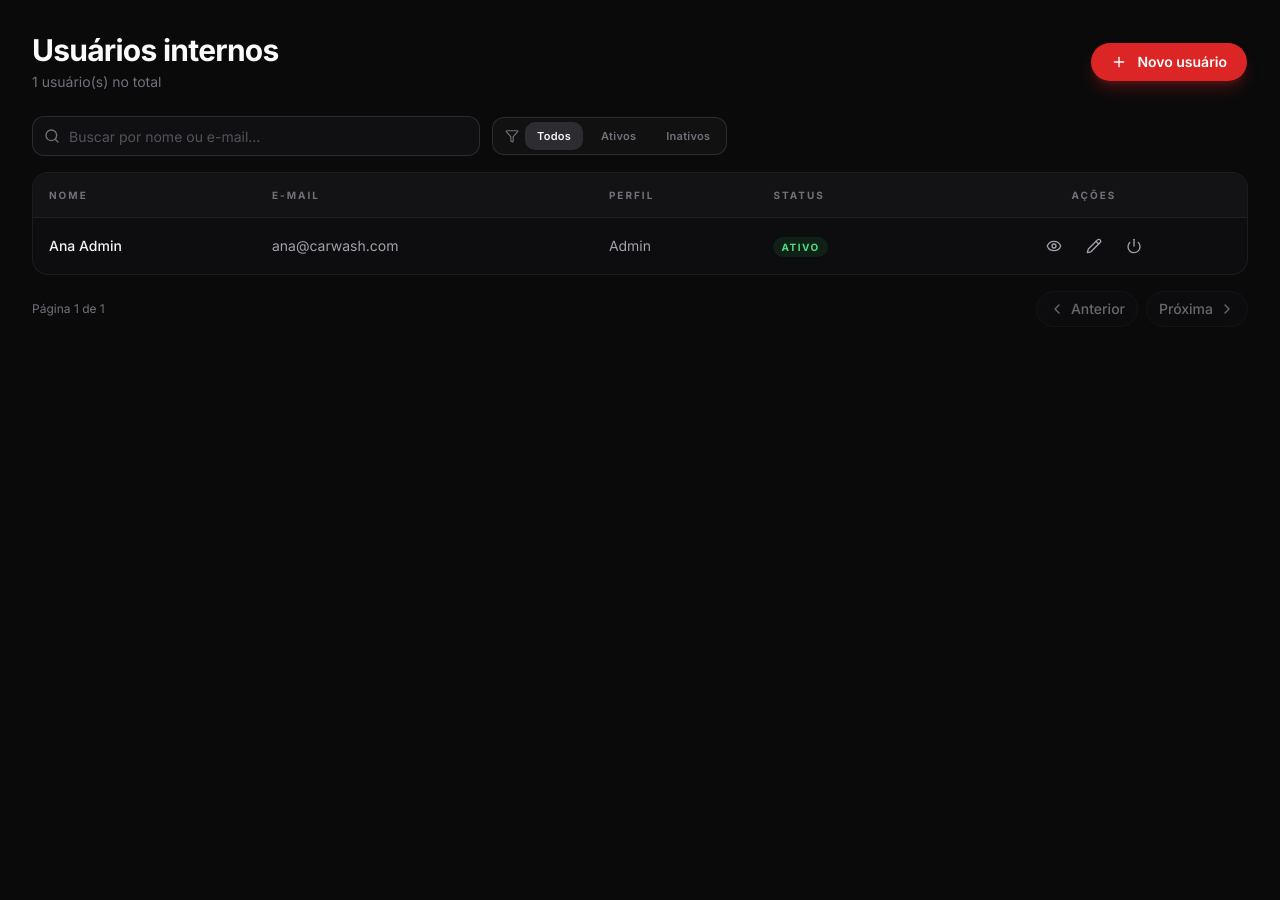
it: UsuariosListaPage (RF014) — toggle de status via modal de confirmação › 6d. cancelar no modal não dispara PATCH e mantém o status
The image size is (1280, 900).
Expected: the text "Ana Admin" is shown, x1=49 y1=237 x2=122 y2=254
Click the button named "Inativar Ana Admin" at (1134, 246), box x1=1118 y1=230 x2=1150 y2=262
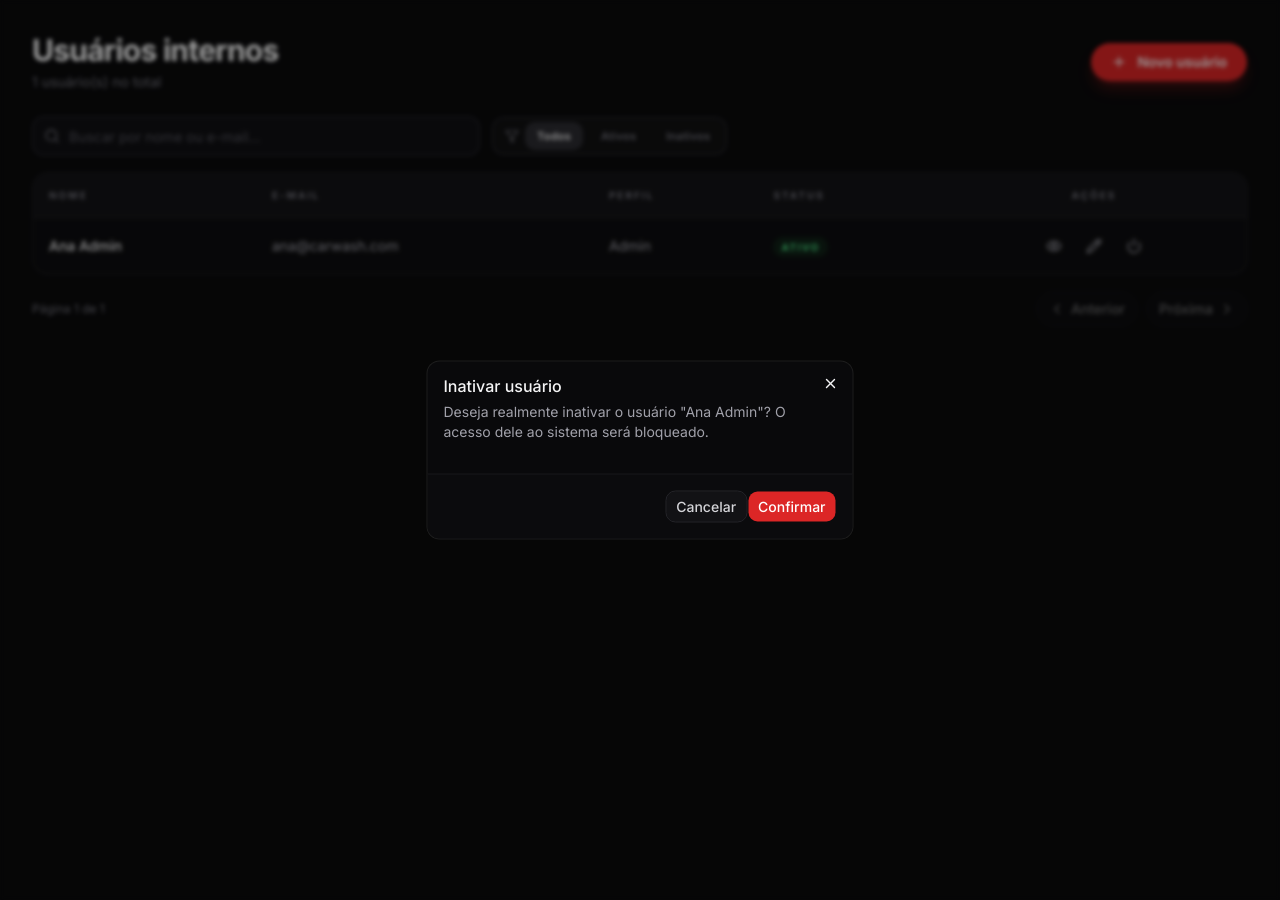
Expected: the dialog is shown, x1=428 y1=362 x2=852 y2=538
Click the button "Cancelar" at (706, 506), box x1=665 y1=490 x2=747 y2=522
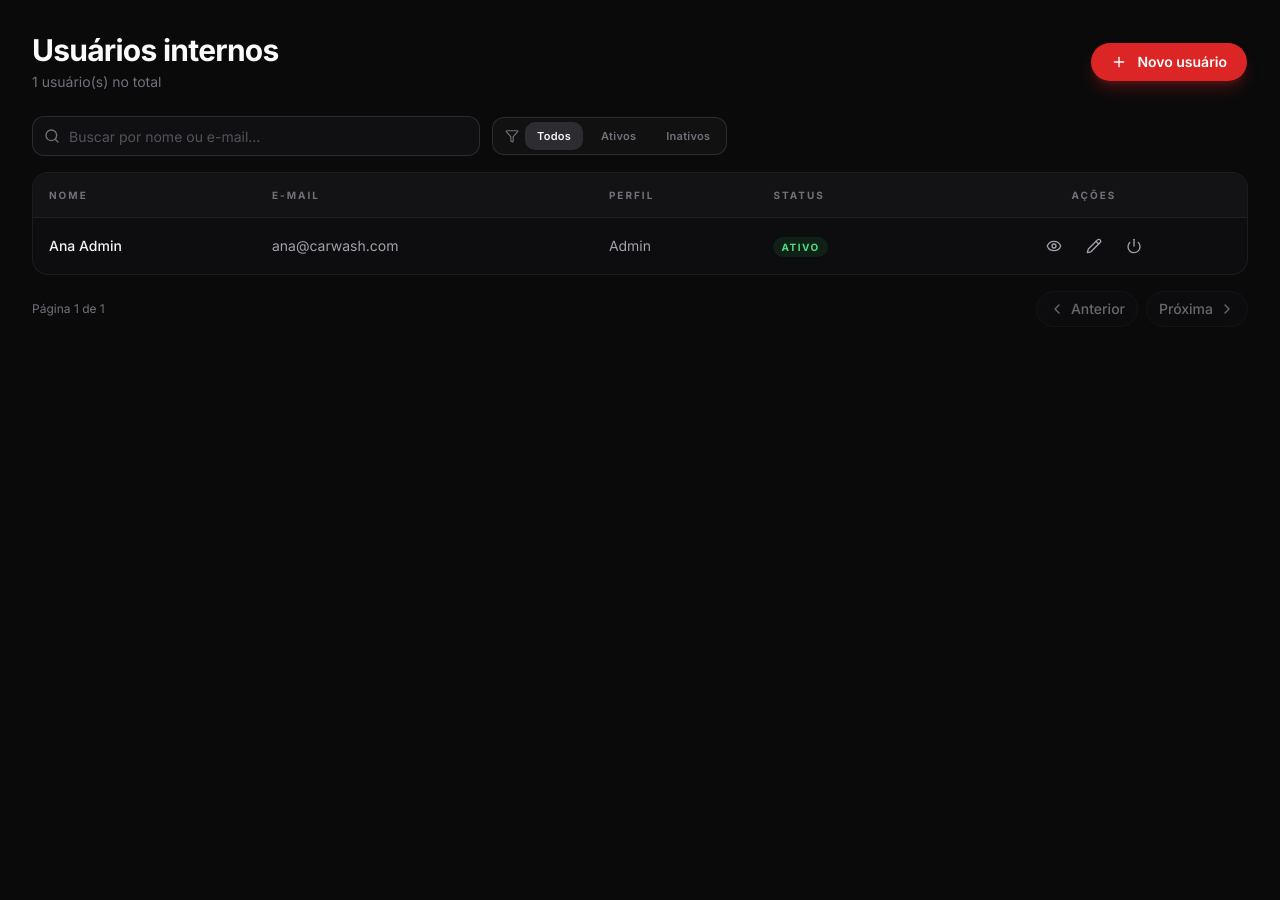
Expected: the text "ATIVO" is shown, x1=774 y1=236 x2=828 y2=256
Expected: the dialog is gone
